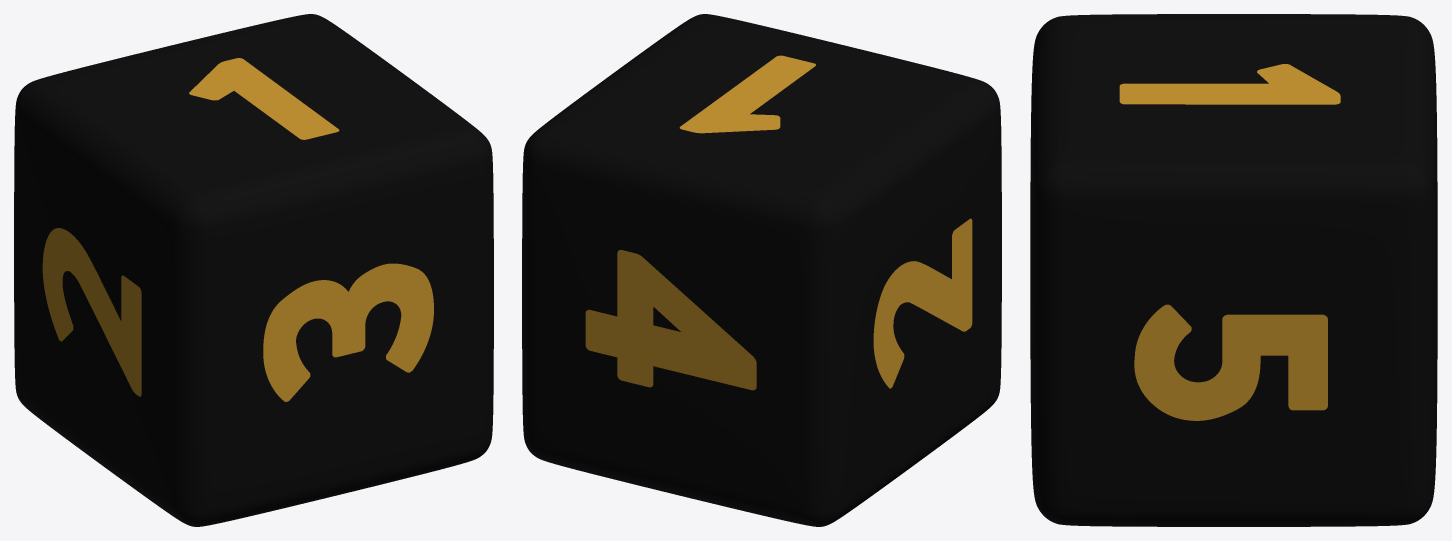
File: MonsterDice.fbx
The picture shows the model from 3 angles, left to right: view 1: azimuth 30°, elevation 25°; view 2: azimuth 150°, elevation 25°; view 3: azimuth 270°, elevation 25°; orthographic projection. The views are drawn at different scales.
Visible parts, largest first — view 1: Dice, Face3, Face2, Face1; view 2: Dice, Face4, Face2, Face1; view 3: Dice, Face5, Face1.
Boxes of the visible parts, box(x1,y1,x2,y2) form: Dice: box(14, 14, 493, 526); Face3: box(263, 263, 433, 401); Face2: box(42, 228, 141, 396); Face1: box(189, 58, 339, 139); Dice: box(522, 14, 1001, 526); Face4: box(585, 250, 756, 390); Face2: box(873, 218, 972, 388); Face1: box(679, 55, 815, 133); Dice: box(1030, 14, 1437, 526); Face5: box(1134, 304, 1327, 420); Face1: box(1119, 64, 1340, 104).
Bounding box in the file's own units: 200 × 200 × 200.
